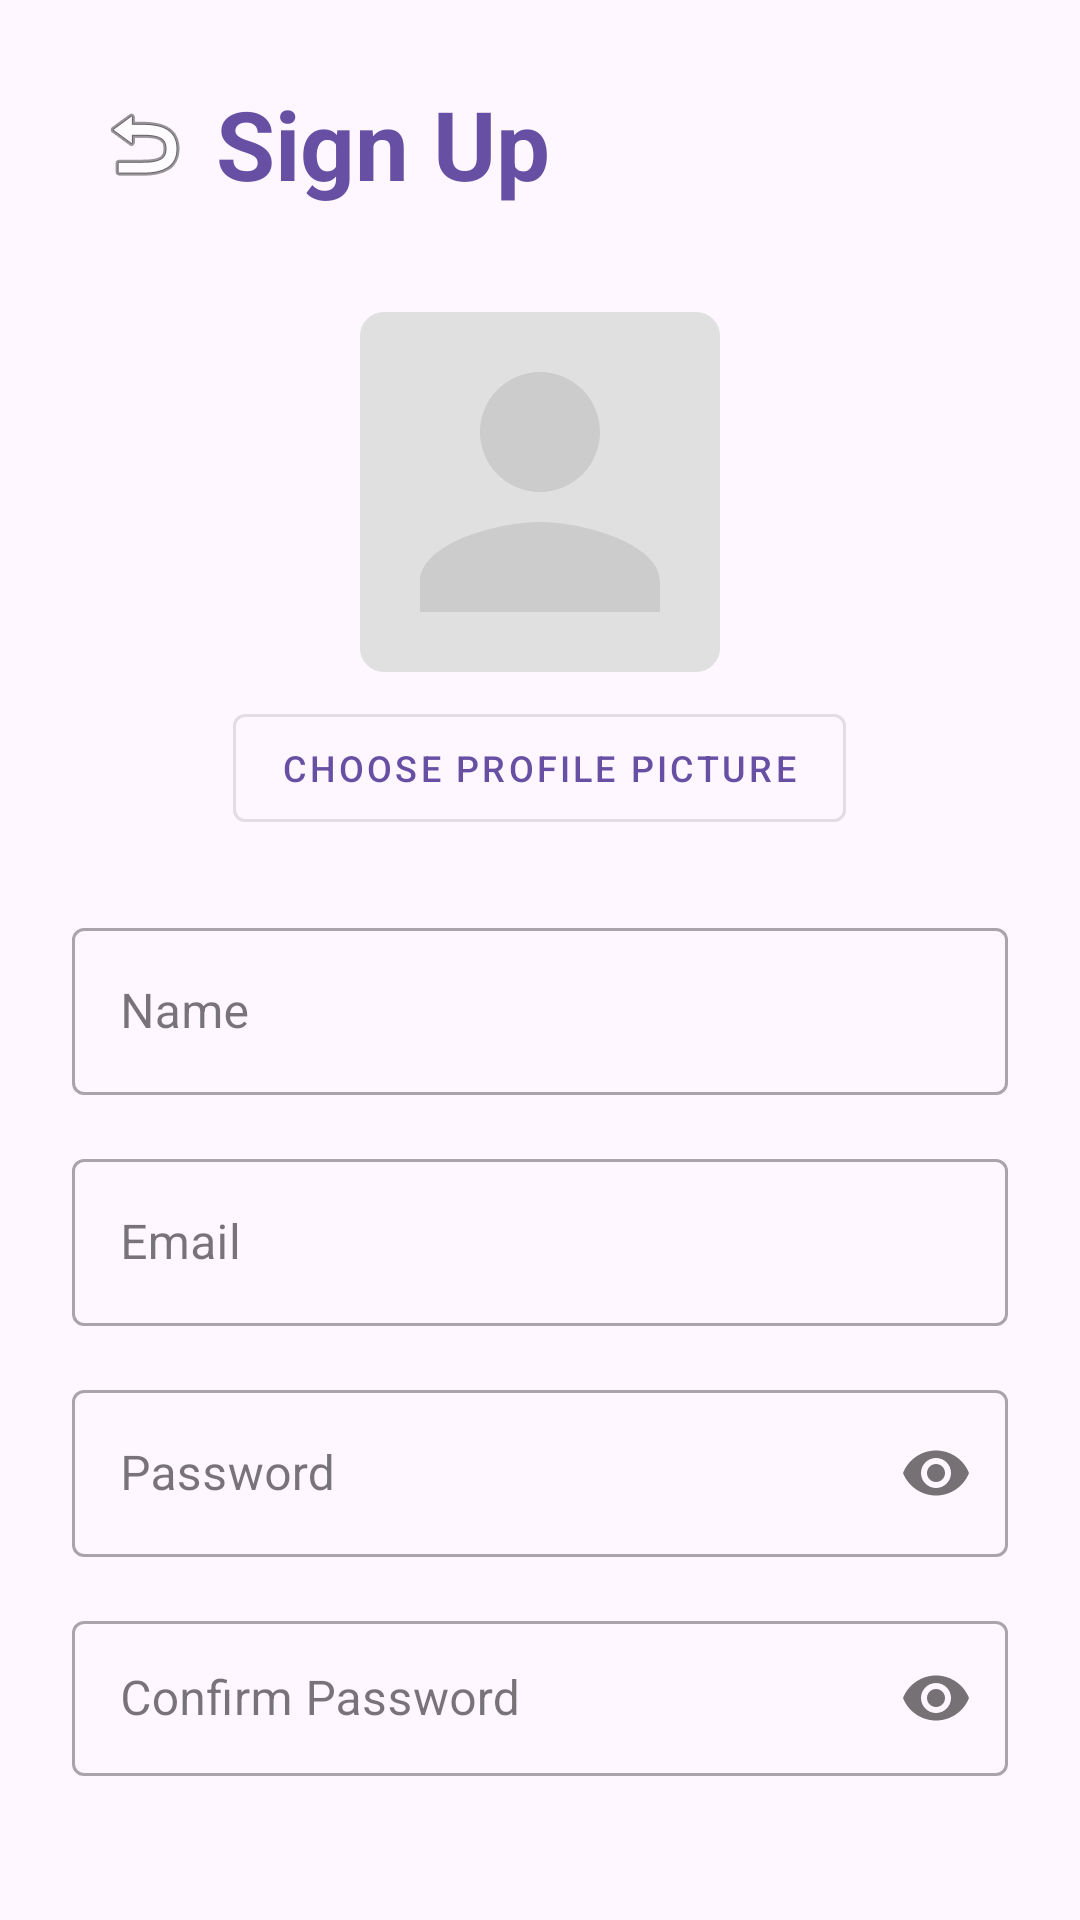

Screen size 1080 x 1920. Icon name, then its center in pixels as (x,y):
Back: (145,144)
